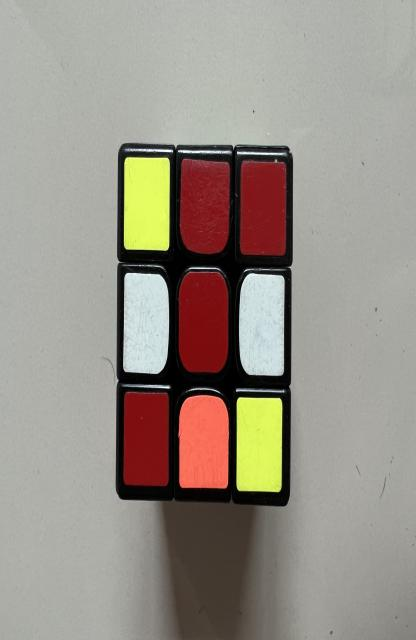Orange: (179, 395, 229, 488)
Red: (179, 270, 228, 373), (180, 158, 230, 255), (240, 162, 286, 255), (124, 392, 169, 487)
White: (123, 273, 169, 375), (239, 273, 284, 377)
Yellow: (236, 397, 282, 492), (124, 157, 170, 250)
